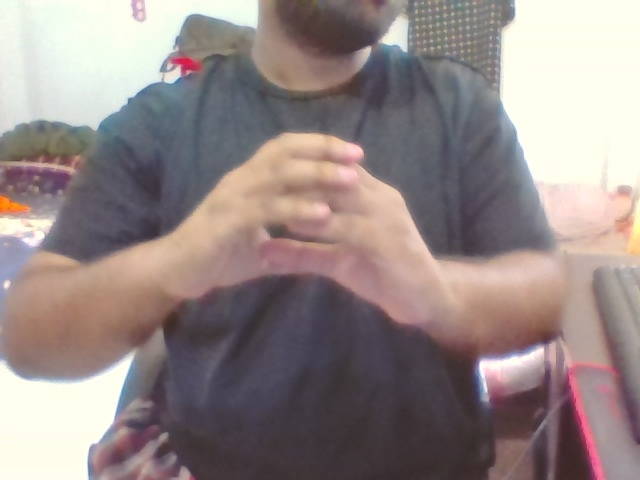O: (187, 125, 436, 334)
